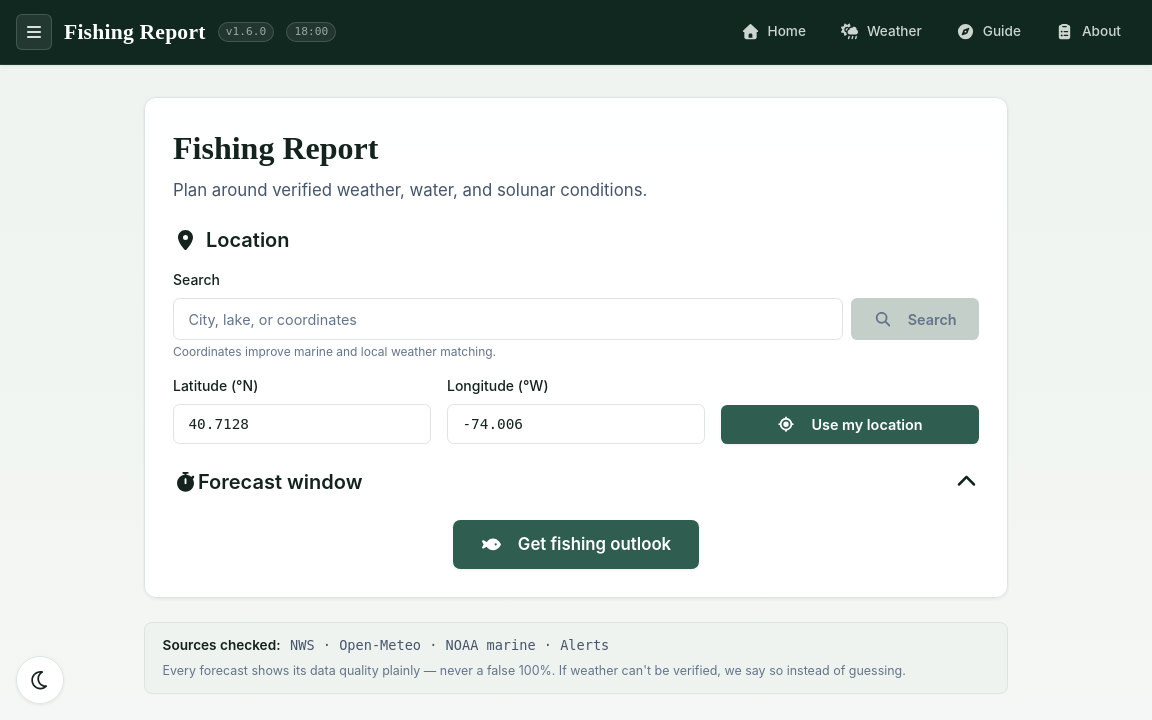
MissionDrawer › prefills the saved-spot name from a named location and can save it
The width and height of the screenshot is (1152, 720).
Step 1. Type "Review Harbor" into the field labelled "Search" → (508,319), box [173,298,843,340]
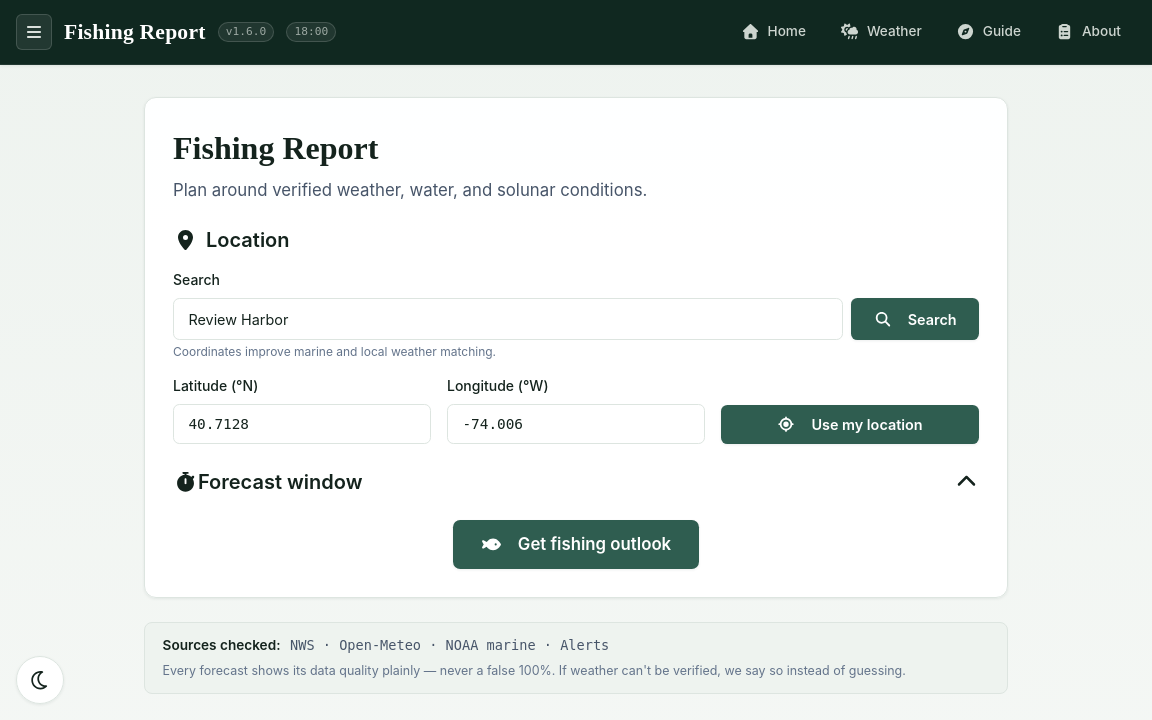
Step 2. Click the button with test id "mission-drawer-toggle" → (34,32), box [16,14,52,50]
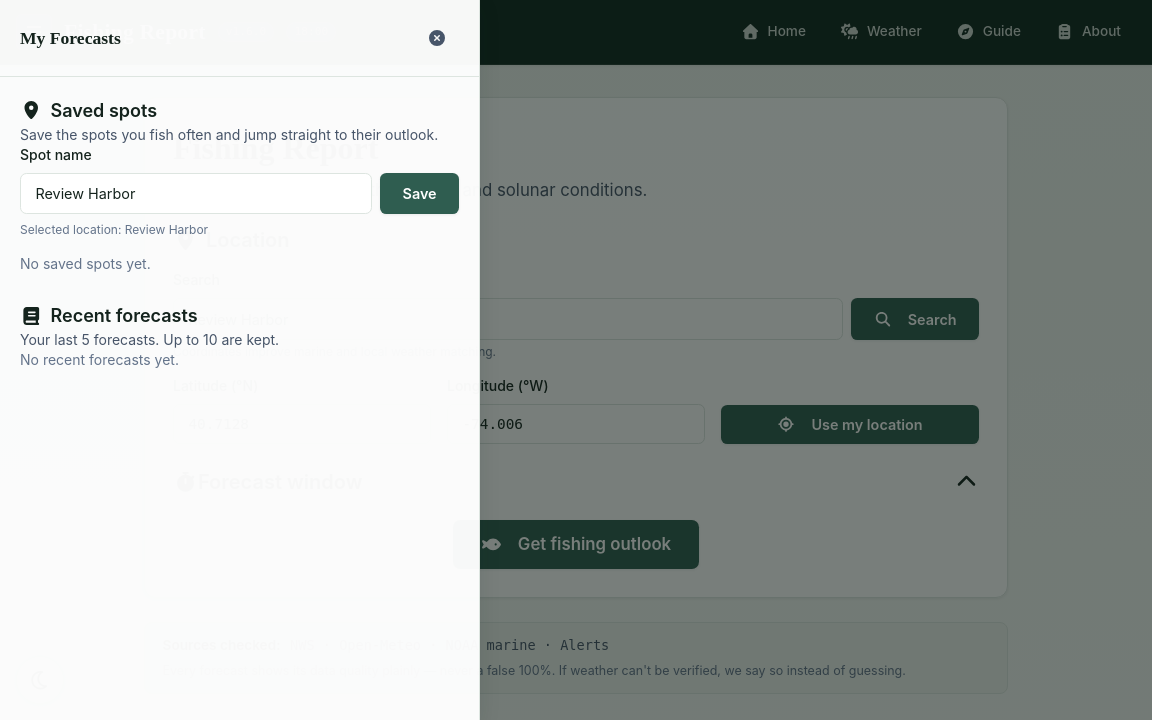
Now the field with test id "waypoint-name-input" holds "Review Harbor", box [20,173,372,214]
Step 3. Click the button with test id "save-waypoint-button" → (420,194), box [380,173,459,214]
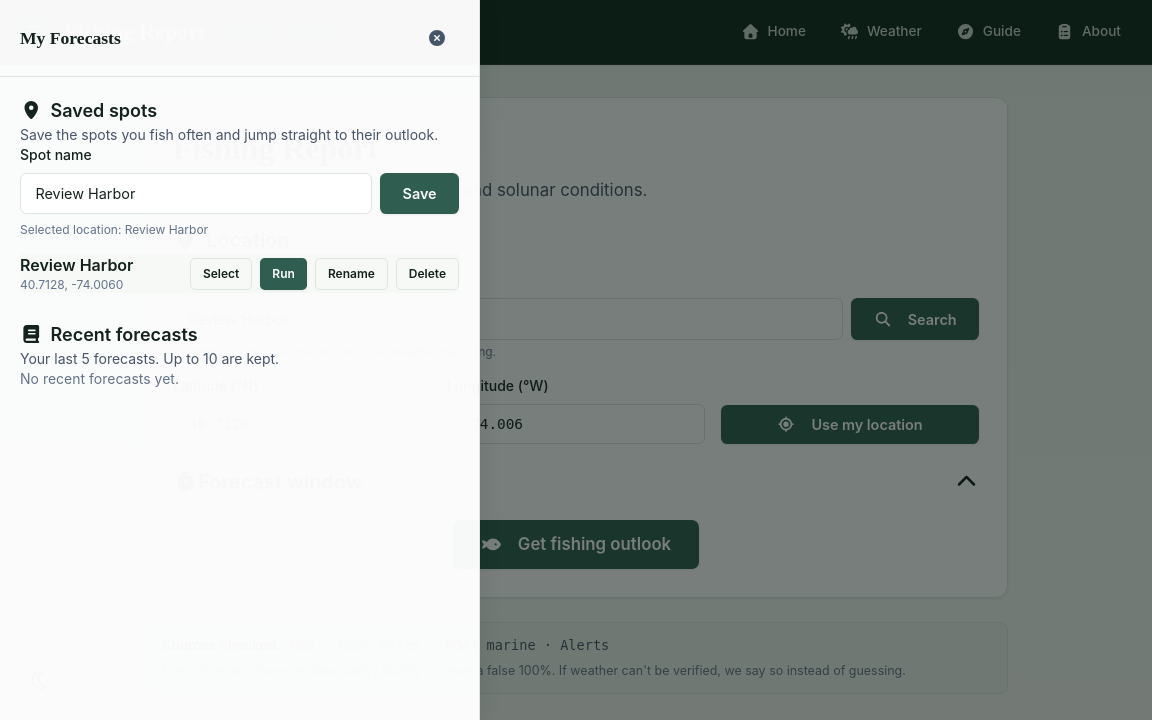
Now the text "Review Harbor" is shown, box [20,254,134,277]
